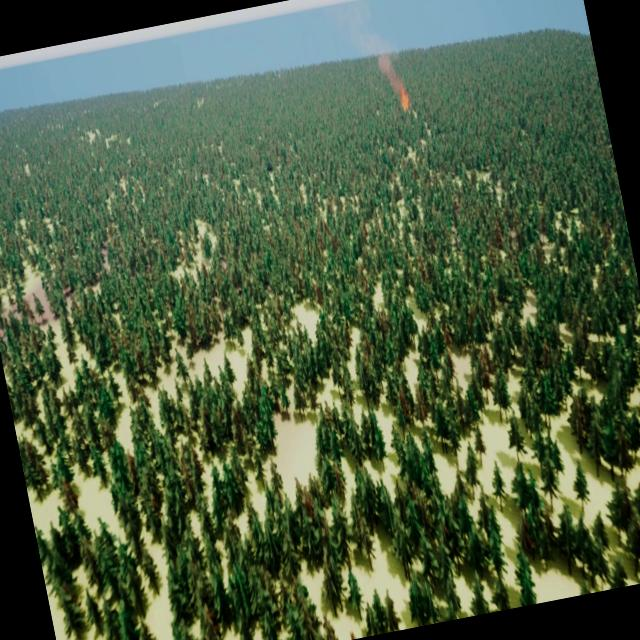fire: (400, 84, 416, 112)
smoke: (328, 0, 404, 107)
